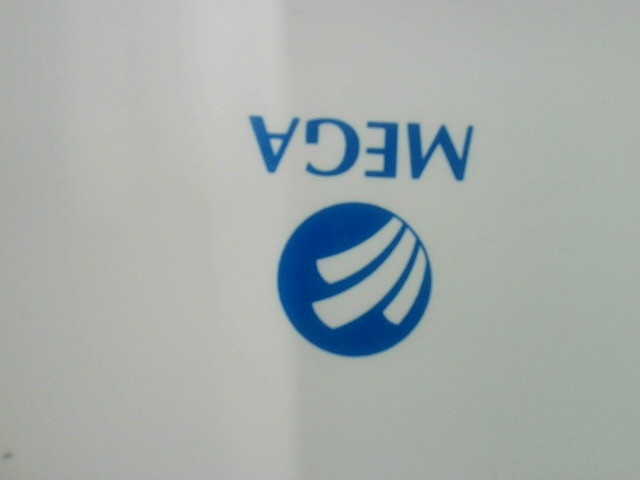AM_ZTEMEGA: (230, 104, 509, 371)
